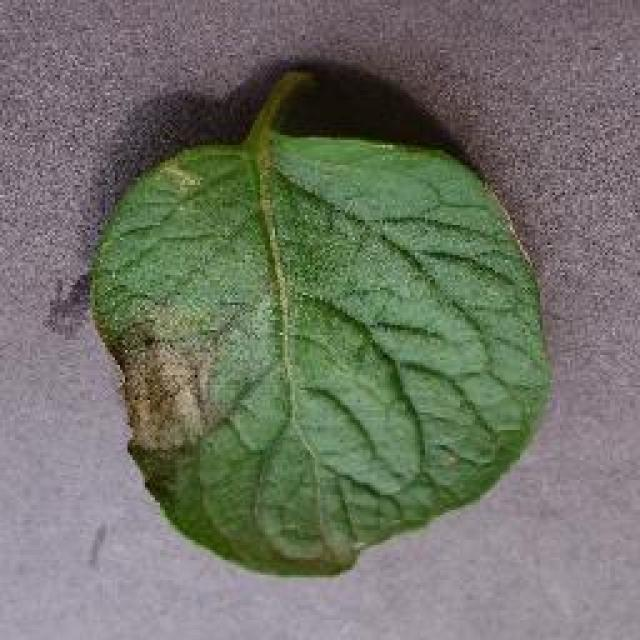Potato___Late_blight: (90, 70, 553, 577)
